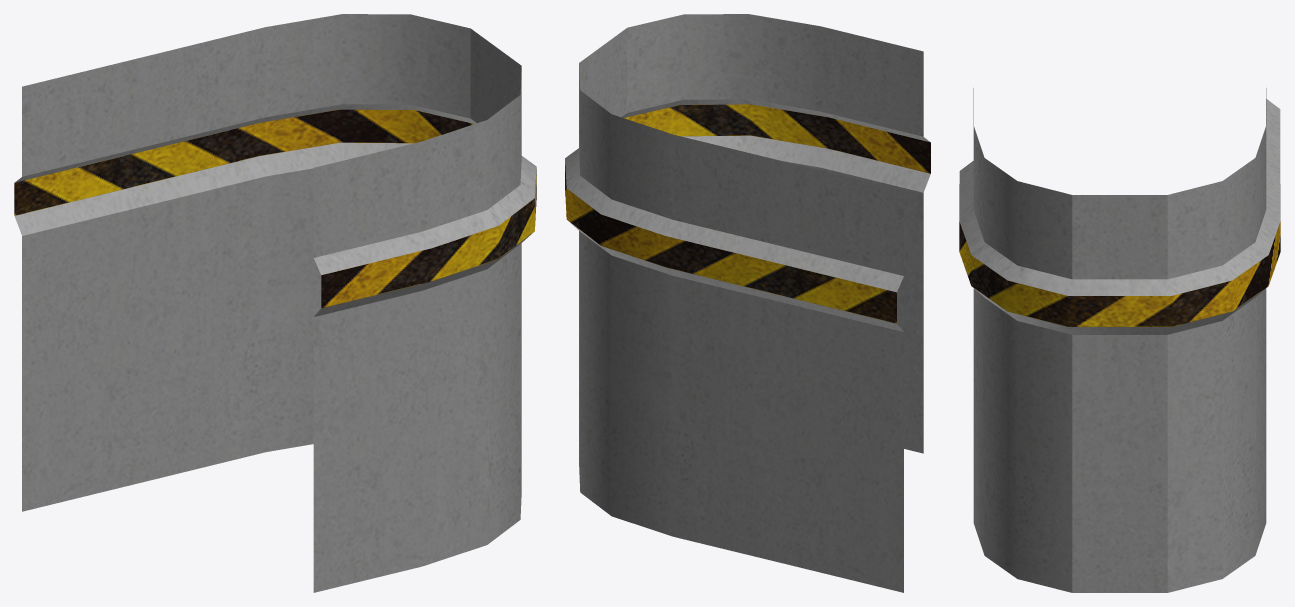
The model's file is Wall_2m_Roll180_03.FBX.
3 views of the same model, side by side, from view 1: azimuth 30°, elevation 25°; view 2: azimuth 150°, elevation 25°; view 3: azimuth 270°, elevation 25° (orthographic). The views are drawn at different scales.
Parts seen in each view (by area): view 1: Wall_2m_Roll180_03_mesh; view 2: Wall_2m_Roll180_03_mesh; view 3: Wall_2m_Roll180_03_mesh.
Part boxes in pixels (x1,y1,x2,y2): Wall_2m_Roll180_03_mesh: (14, 14, 536, 592); Wall_2m_Roll180_03_mesh: (565, 14, 930, 592); Wall_2m_Roll180_03_mesh: (959, 88, 1280, 592).
Size of the model in its own units: 302 by 300 by 219.
Materials: 2 (2 with a texture image).
